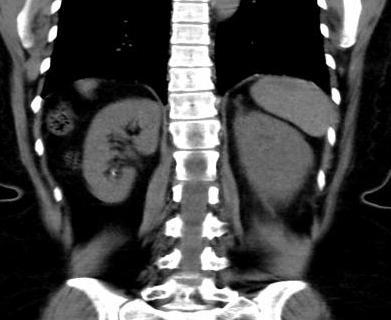Tas_Var: (111, 170, 117, 177)
